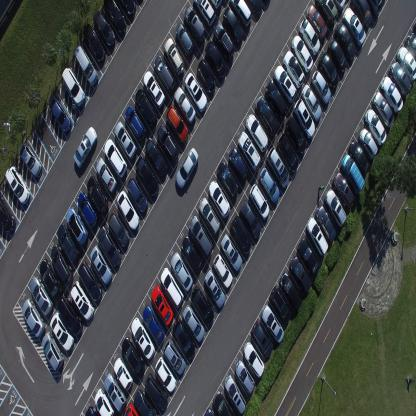car: (56, 293, 83, 337), (72, 125, 98, 170), (73, 42, 99, 87), (130, 316, 155, 361), (69, 279, 95, 320), (135, 153, 159, 197), (342, 153, 366, 197), (188, 215, 212, 258), (175, 146, 199, 189), (50, 243, 74, 286), (97, 224, 121, 267), (184, 71, 208, 114), (5, 165, 30, 206), (78, 260, 102, 302), (266, 146, 290, 188), (170, 250, 194, 292), (121, 336, 145, 378), (22, 297, 46, 339), (342, 6, 366, 48), (39, 257, 62, 300), (57, 221, 80, 264), (41, 329, 64, 372), (237, 131, 261, 172), (150, 284, 174, 325), (104, 137, 128, 178), (62, 66, 86, 107), (255, 95, 279, 136), (156, 123, 179, 165), (172, 318, 195, 360), (212, 21, 235, 63), (224, 373, 247, 415), (116, 189, 140, 229), (50, 311, 74, 351), (48, 94, 72, 134), (160, 266, 183, 307), (145, 136, 168, 177), (89, 244, 112, 285), (279, 270, 302, 311), (261, 303, 284, 344), (104, 371, 127, 412), (183, 5, 206, 46), (204, 39, 227, 80), (324, 188, 347, 229), (65, 206, 89, 245), (192, 284, 214, 326), (83, 22, 105, 64), (334, 20, 356, 62), (86, 174, 109, 214), (198, 196, 221, 236), (142, 304, 165, 344), (30, 276, 53, 316), (92, 9, 115, 49), (274, 64, 297, 104), (298, 16, 321, 56), (142, 70, 166, 108), (18, 141, 42, 179), (277, 132, 299, 173), (154, 54, 176, 95), (266, 80, 288, 121), (283, 49, 305, 90), (291, 34, 313, 75), (333, 170, 355, 211), (298, 238, 320, 279), (389, 60, 412, 99), (289, 255, 312, 294), (380, 75, 404, 112), (216, 160, 238, 200), (166, 104, 188, 144), (114, 120, 136, 160), (246, 113, 268, 153), (208, 179, 230, 219), (174, 85, 196, 125), (293, 98, 315, 138), (306, 216, 328, 256), (107, 209, 130, 247), (182, 304, 205, 342), (163, 338, 186, 376), (364, 108, 387, 146), (223, 5, 244, 46), (239, 199, 261, 238), (124, 104, 146, 143), (269, 285, 291, 324), (134, 88, 156, 127), (76, 191, 98, 230), (251, 319, 273, 358), (144, 373, 167, 410), (230, 214, 251, 254), (203, 267, 224, 307), (301, 83, 322, 123), (220, 233, 242, 271), (258, 166, 280, 204), (155, 356, 177, 394), (372, 90, 394, 128), (348, 138, 370, 176), (164, 37, 184, 78), (318, 51, 339, 90), (126, 176, 148, 213), (306, 4, 328, 41), (243, 341, 265, 378), (181, 234, 202, 272), (286, 115, 307, 153), (95, 157, 117, 193), (103, 0, 126, 34), (249, 183, 270, 220), (396, 45, 416, 83), (316, 204, 336, 242), (212, 252, 233, 288), (234, 360, 255, 396), (311, 68, 331, 105), (228, 0, 253, 29), (327, 37, 347, 73), (197, 59, 216, 96), (113, 357, 133, 391), (358, 127, 378, 161), (228, 147, 247, 182), (133, 388, 157, 415), (192, 0, 216, 27), (175, 24, 194, 58), (94, 386, 115, 416), (314, 0, 339, 25), (212, 389, 236, 415), (350, 0, 372, 28), (0, 195, 16, 233), (116, 0, 136, 18), (245, 0, 264, 17), (365, 0, 384, 17), (406, 31, 416, 61), (124, 402, 140, 415), (332, 0, 347, 12), (209, 0, 224, 11), (85, 404, 98, 415), (204, 406, 216, 416)
